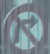Don't turn right: (4, 2, 44, 53)
